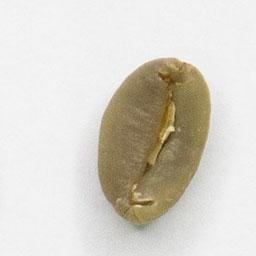premium: (92, 52, 215, 228)
